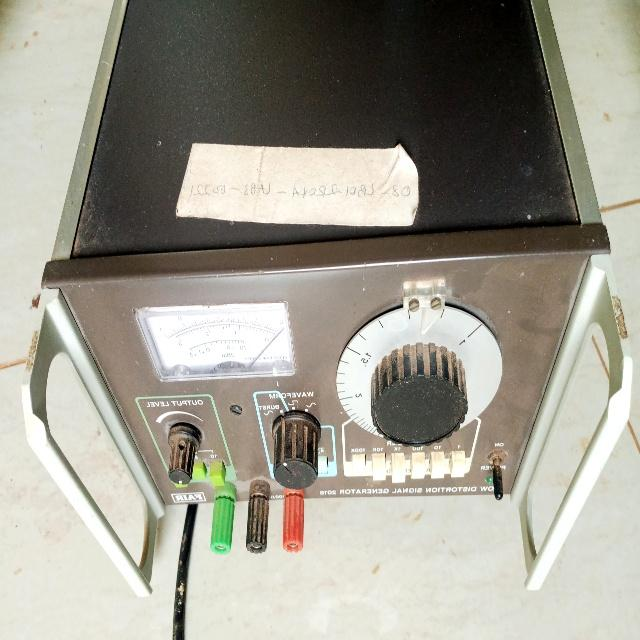Low Distortion Signal Generator: (16, 0, 635, 635)
